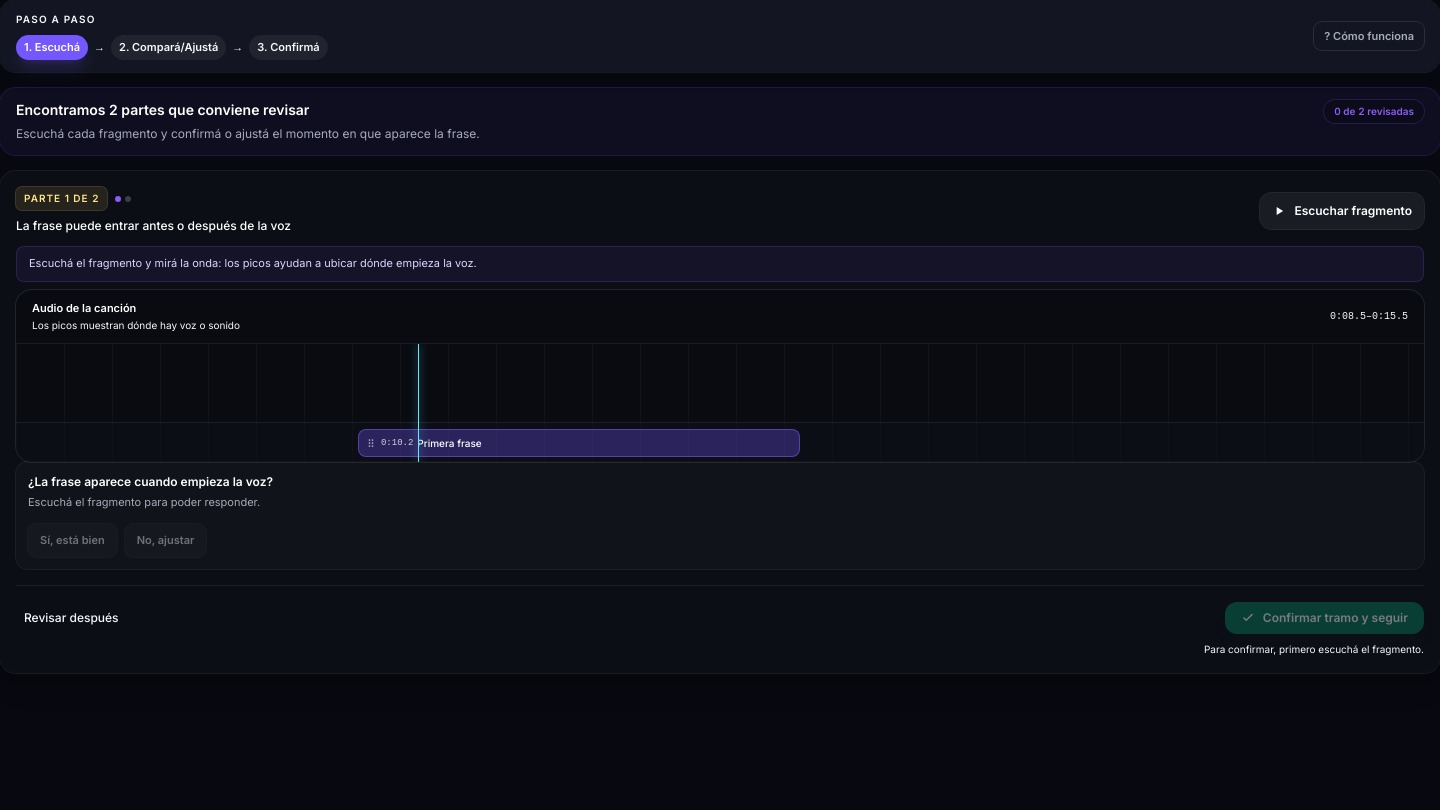
Test case: GuidedTimingReview › muestra la pregunta desde el principio y explica por qué no se puede confirmar
Expected: the text "¿La frase aparece cuando empieza la voz?" is shown, left=28, top=474, right=273, bottom=489
Expected: the button "Sí, está bien" is disabled, left=28, top=524, right=117, bottom=557
Click the button "Escuchar fragmento": (1342, 210) left=1260, top=192, right=1424, bottom=228
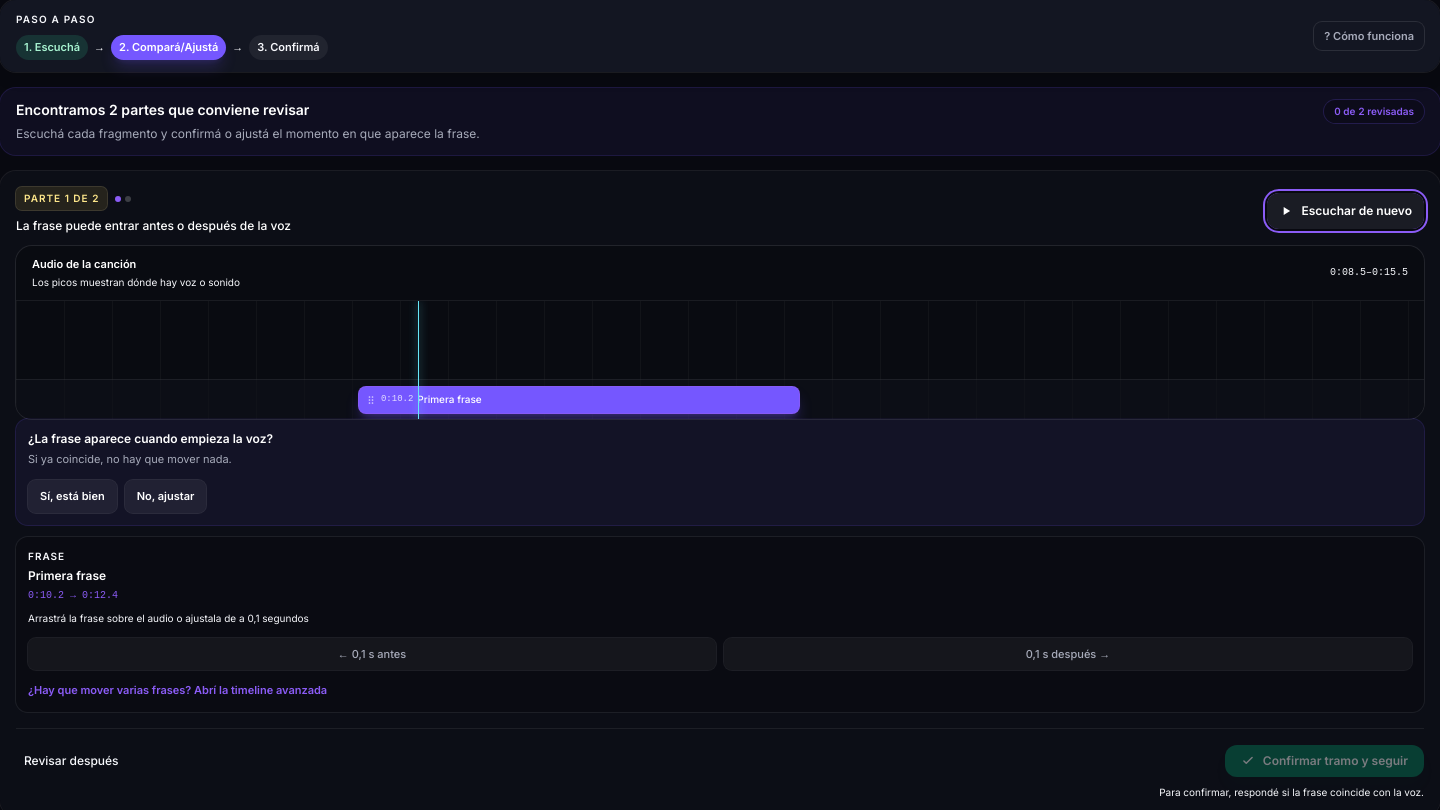
Expected: the button "Sí, está bien" is enabled
Expected: the text with test id "guided-confirm-blocked" shows "respondé si la frase coincide", left=1159, top=786, right=1424, bottom=798
Click the button "Sí, está bien": (72, 497) left=28, top=480, right=117, bottom=513
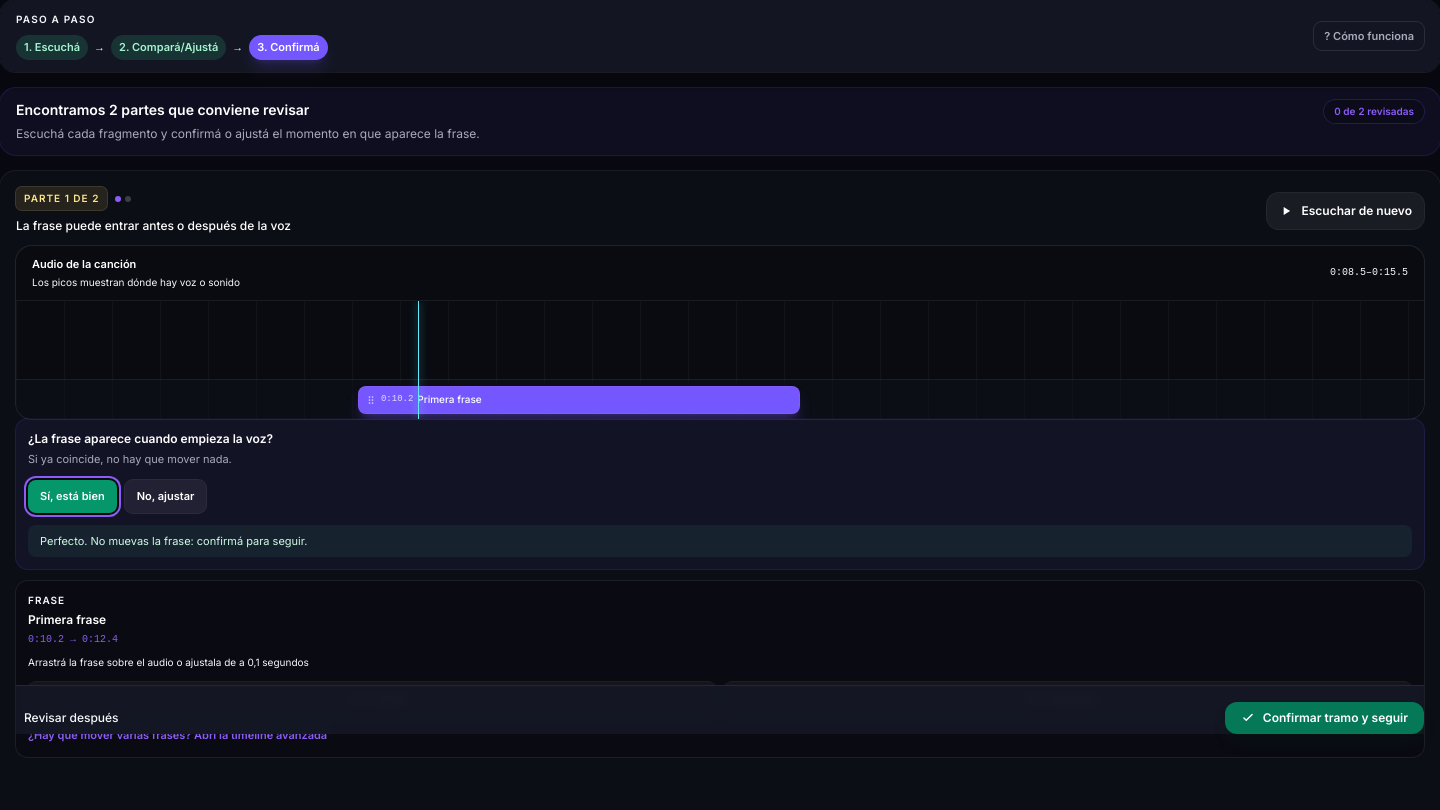
Expected: the text with test id "guided-confirm-blocked" is gone
Expected: the button "Confirmar tramo y seguir" is enabled, left=1225, top=702, right=1424, bottom=734
